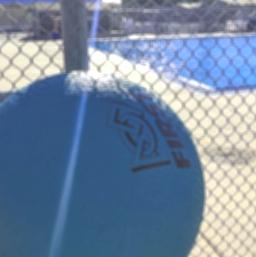algae: (0, 64, 211, 257)
